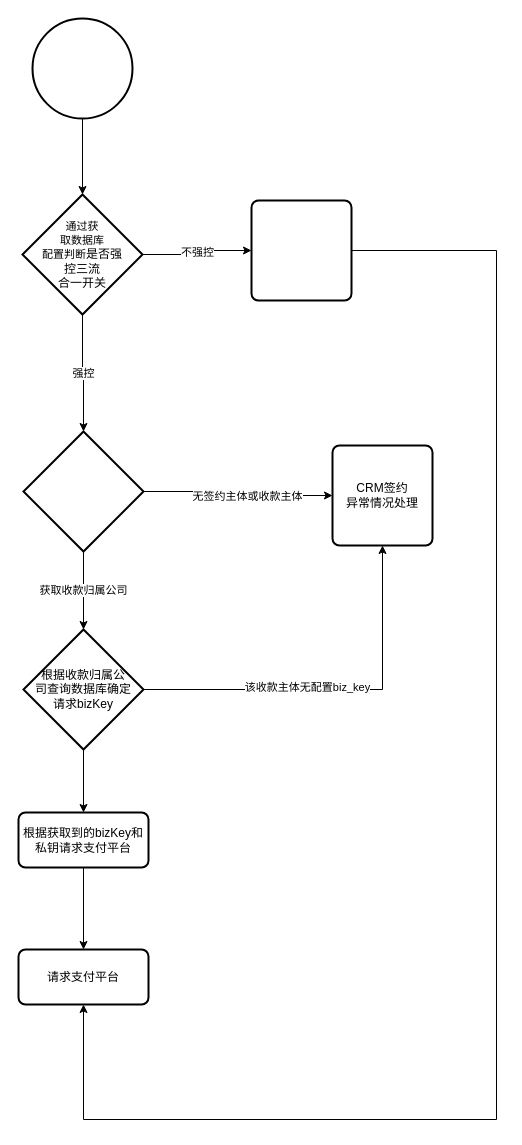
Some shapes in this 522 by 1145 pixel diagram are drawn without their labels. The shapes that lost their labels are listed below. From the top down, each one's box as (x1, y1, x2, y2) in pixels, then its label:
(31, 17, 133, 119): 在线充值平台获取bizKey逻辑
(250, 199, 352, 301): 现有逻辑根据品牌 取bizKey私钥
(22, 430, 144, 552): 根据充值客户+币种 请求CRM
